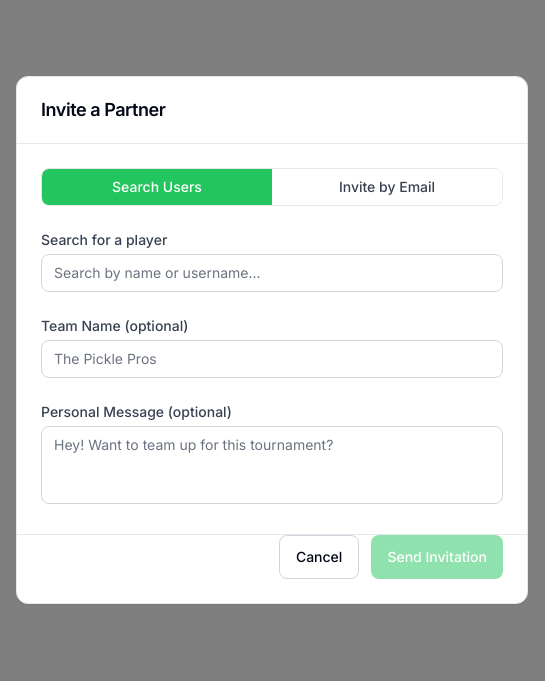
Test: PartnerInviteModal › User Search Autocomplete › shows search results when query has 2+ characters
Type "pla" into the field with placeholder "Search by name or username..." at (272, 273), box [41,254,503,292]
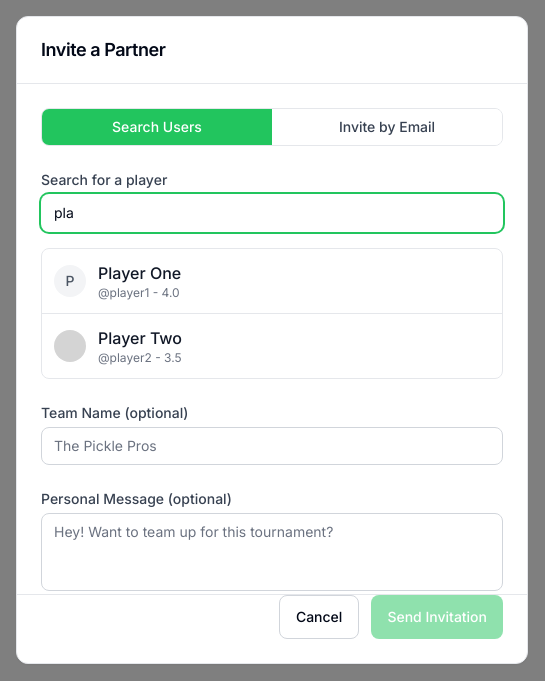
Check: the text "Player One" is shown, box [98,263,181,283]
Check: the text "Player Two" is shown, box [98,328,182,348]
